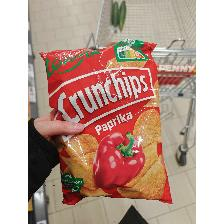Chips: (38, 39, 176, 208)
